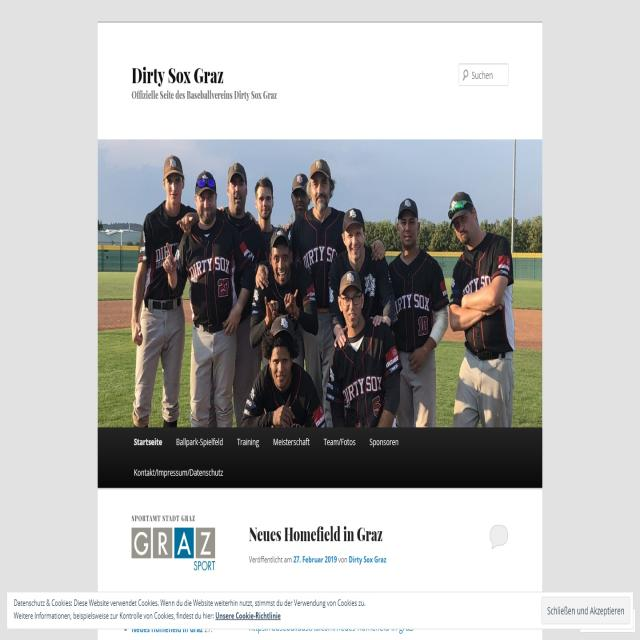button: (130, 463, 228, 487), (542, 598, 631, 624), (174, 428, 228, 456), (268, 431, 314, 456), (366, 428, 403, 458), (320, 431, 362, 455), (130, 428, 168, 454), (232, 429, 264, 455)
field: (459, 63, 508, 86)
heading: (248, 523, 384, 546), (132, 65, 225, 88)
iframe: (7, 590, 634, 630)
image: (98, 140, 541, 428), (483, 521, 515, 552)
label: (471, 70, 494, 81)
link: (214, 607, 283, 622)
text: (13, 596, 367, 623), (130, 528, 214, 556), (131, 88, 280, 103), (248, 552, 388, 566), (128, 512, 198, 524), (191, 558, 217, 575)
